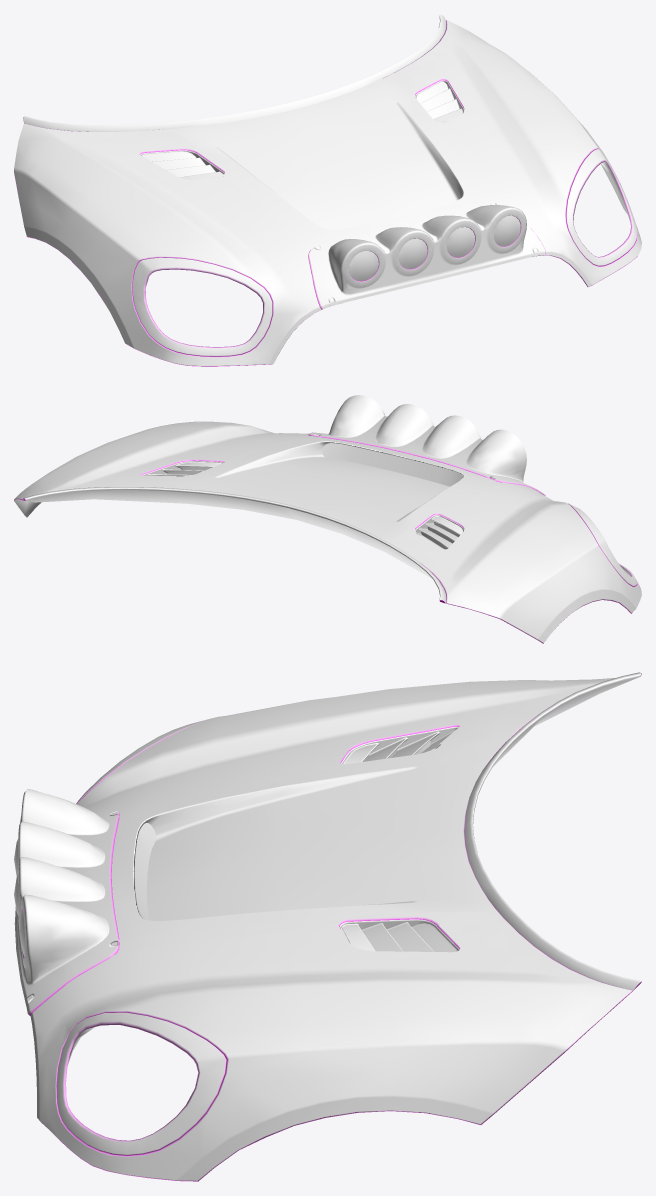
The model's file is Car_Mini_CountrymanJCW_2017_Hood_SetD_AltA.fbx.
The picture shows the model from 3 angles, top to bottom: view 1: azimuth 30°, elevation 25°; view 2: azimuth 150°, elevation 25°; view 3: azimuth 270°, elevation 25°; orthographic projection. The views are drawn at different scales.
Visible parts, largest first — view 1: Hood 6; view 2: Hood 6; view 3: Hood 6.
Part boxes in pixels (box(x1,y1,x2,y2)): Hood 6: box(14, 14, 641, 366); Hood 6: box(14, 395, 641, 643); Hood 6: box(14, 672, 641, 1181).
Size of the model in its own units: 1.78 by 0.3896 by 1.23.
